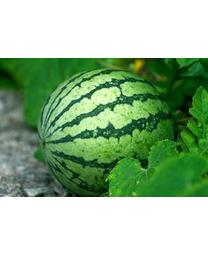watermelon: (36, 69, 176, 195)
